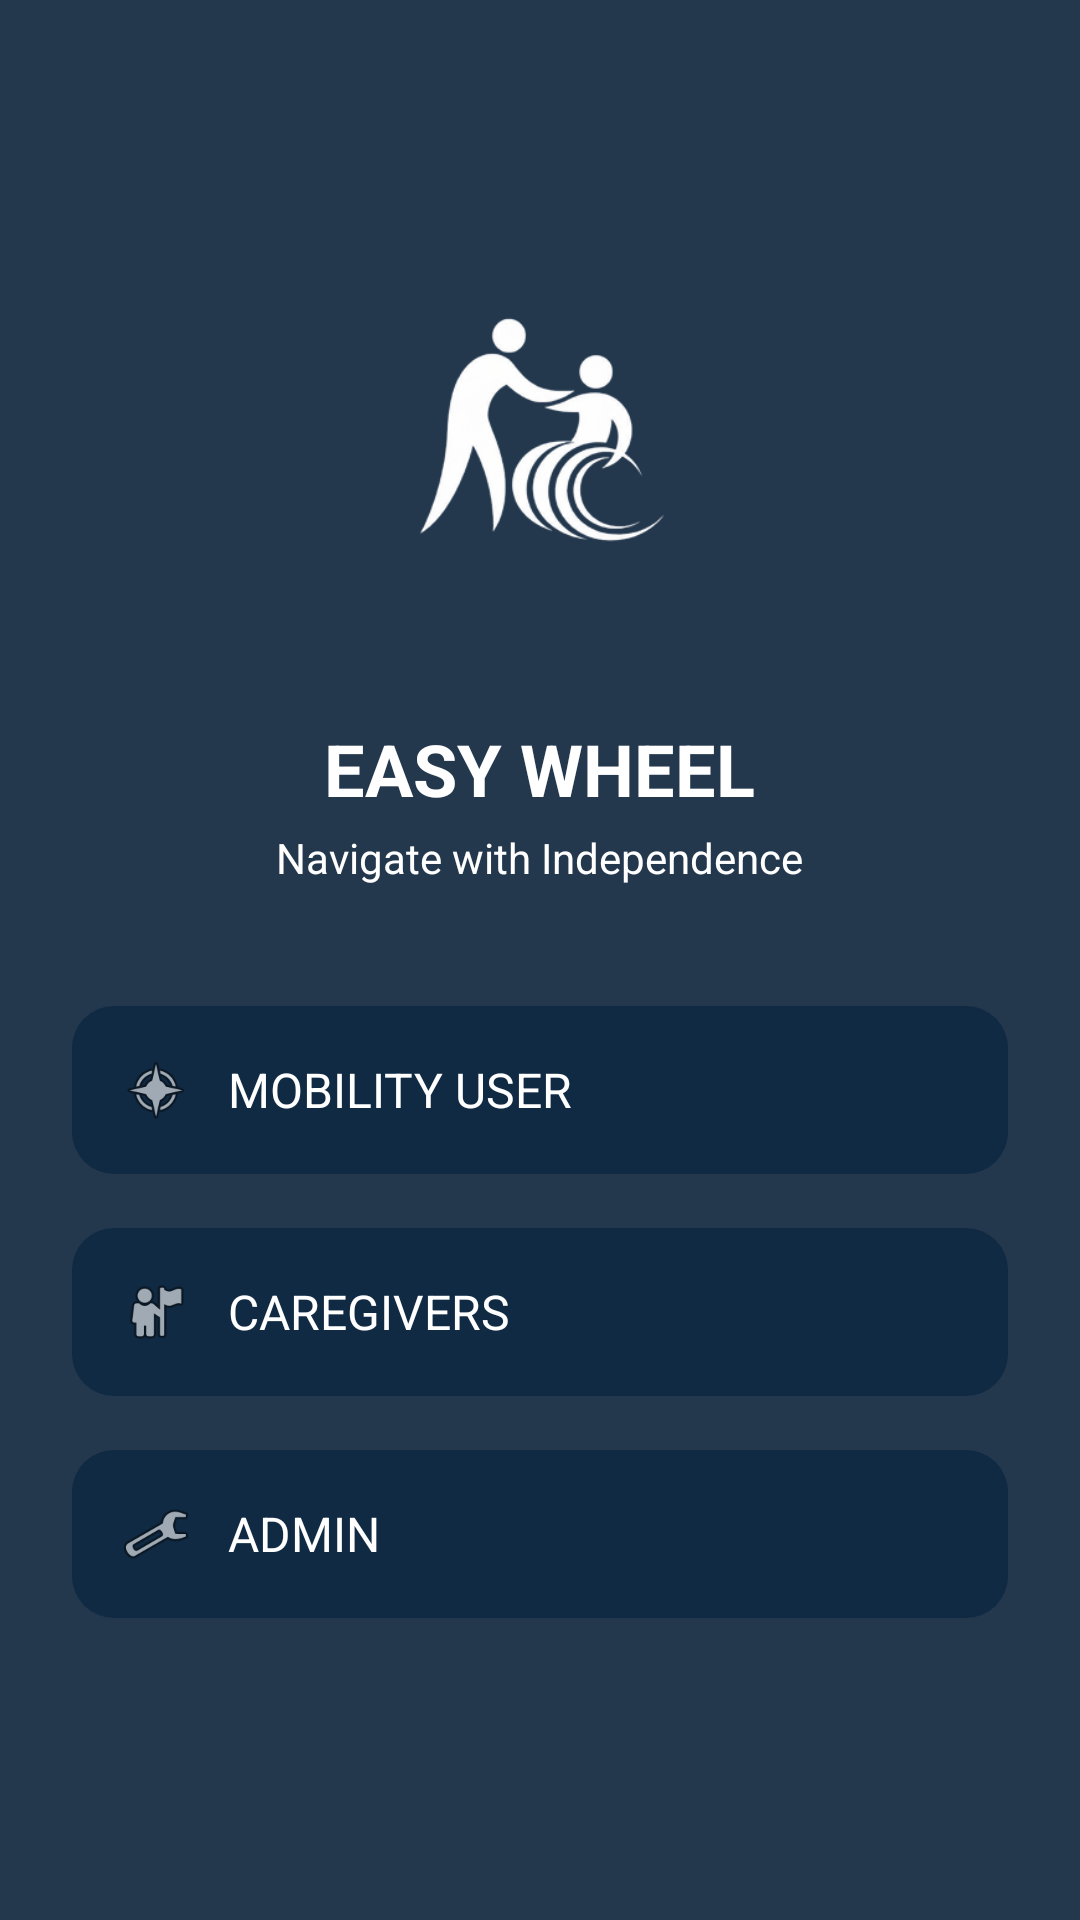

Icon bounding boxes for this 1080px×1920px phone screenshot, format {"x1": x1, "y1": y1, "x2": x2, "y2": y2}:
compass: {"x1": 128, "y1": 1063, "x2": 183, "y2": 1118}
manage: {"x1": 124, "y1": 1510, "x2": 188, "y2": 1558}
